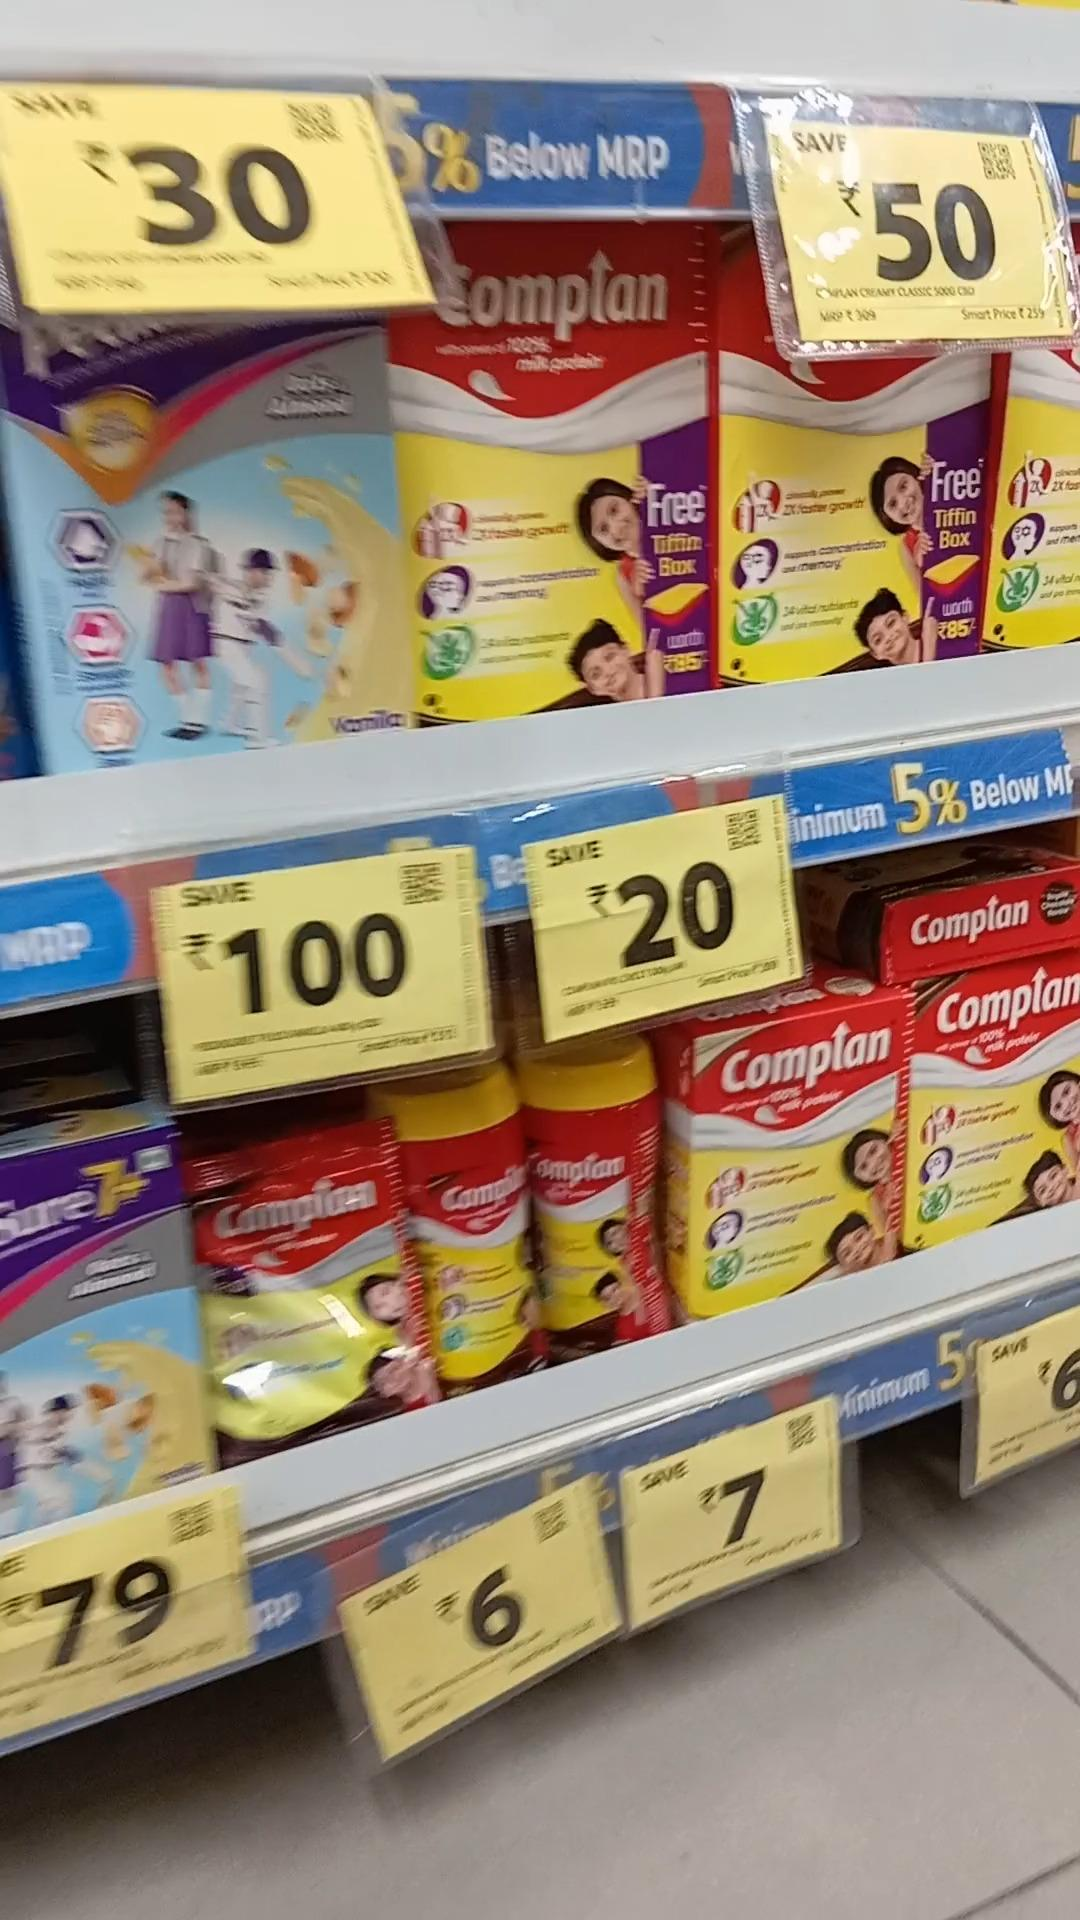COMPLAN_CHOCOLATE_500_GMS_JAR: (538, 1058, 671, 1341), (418, 1081, 531, 1366)
COMPLAN_CHOCOLATE_500_GMS_PACK: (425, 231, 715, 683), (727, 331, 988, 658)
COMPLAN_CREAMY_CLASSIC_500_G_PACK: (687, 1007, 901, 1262)
